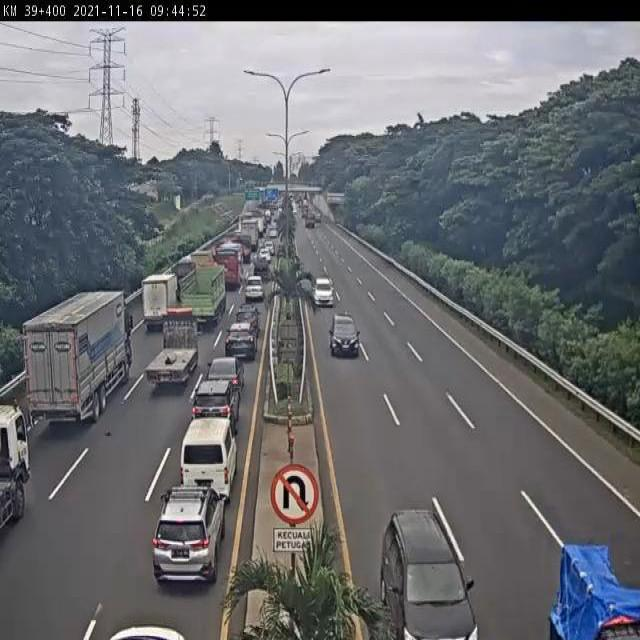big bus: (207, 247, 244, 296)
car: (382, 504, 478, 640), (150, 490, 222, 586), (188, 382, 236, 447), (205, 355, 246, 396), (328, 312, 361, 356), (223, 327, 255, 365), (236, 302, 263, 334), (241, 276, 266, 304), (316, 277, 334, 304)
small bus: (183, 419, 238, 500)
small truck: (182, 253, 211, 296)
truck-l-: (23, 288, 137, 432), (180, 262, 228, 322)
truck-m-: (143, 313, 201, 388), (139, 276, 178, 339)
